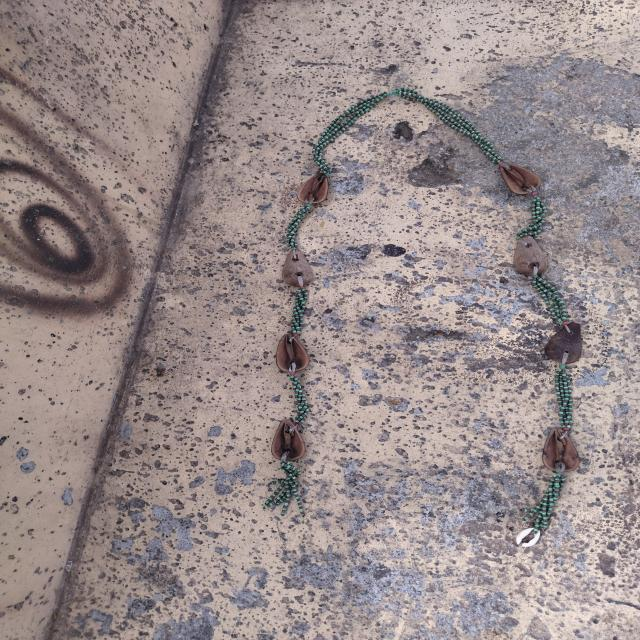facedown: (492, 232, 576, 283), (534, 315, 597, 374), (275, 246, 331, 293)
faceup: (522, 420, 600, 484), (475, 152, 557, 204), (262, 328, 325, 380), (260, 412, 319, 466), (290, 168, 346, 211)
